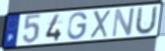4: (44, 13, 63, 42)
5: (21, 13, 42, 46)
G: (66, 11, 89, 41)
N: (111, 6, 137, 39)
U: (133, 5, 159, 37)
X: (89, 9, 112, 40)
